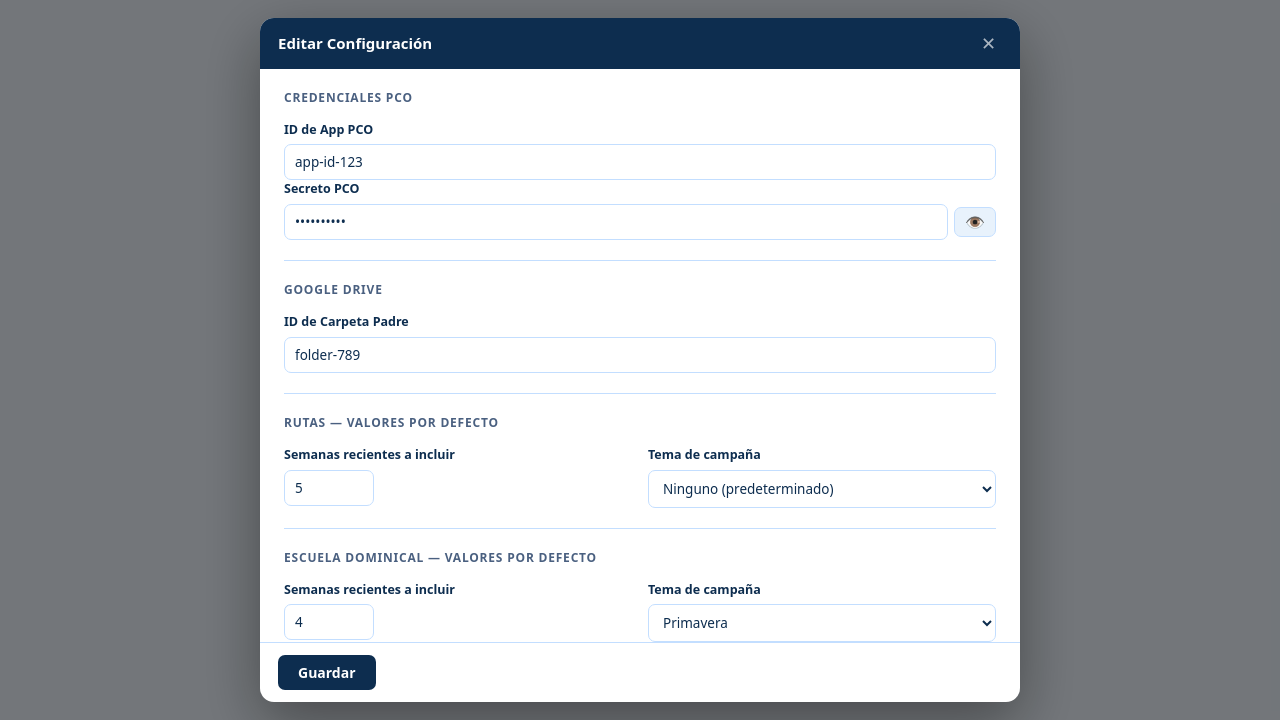
SettingsModal › shows "¡Guardado!" after a successful save
Expected: the field showing "app-id-123" below "ID de App PCO" is shown, x1=284 y1=144 x2=996 y2=180
Click the button "Guardar".
click(327, 672)  # box x1=278 y1=655 x2=376 y2=690
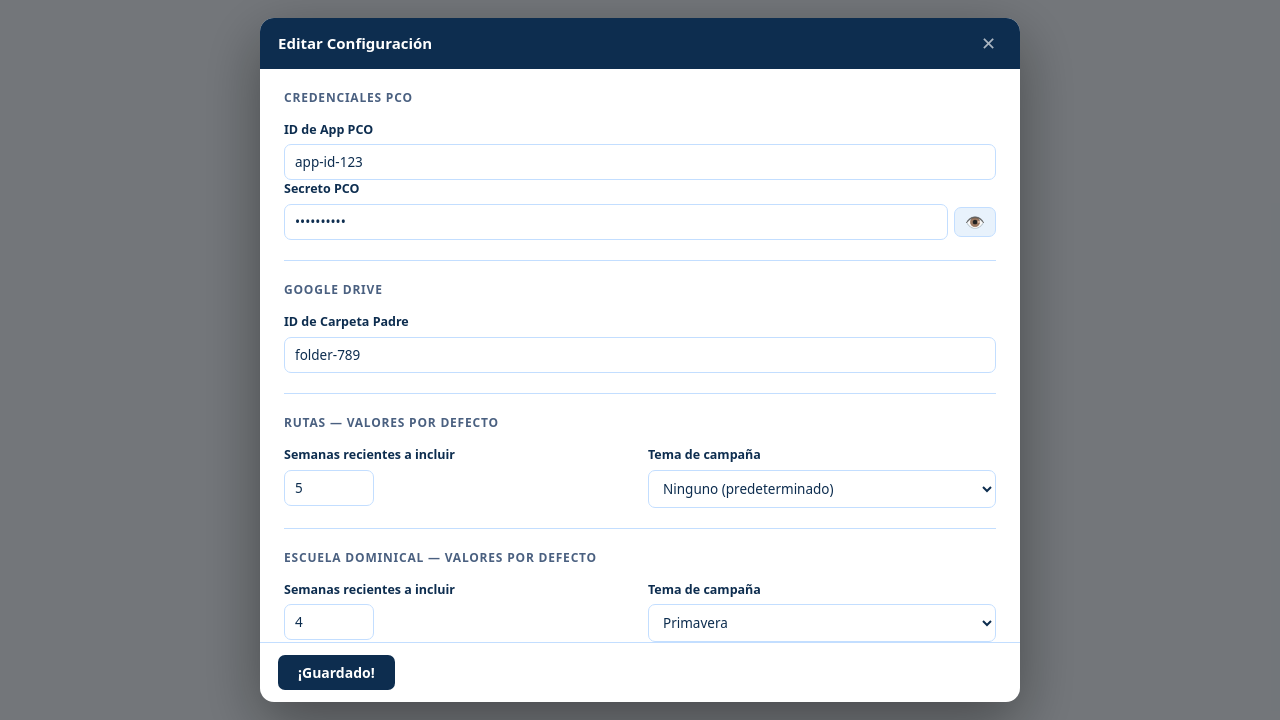
Result: the button "¡Guardado!" is shown at x1=278 y1=655 x2=395 y2=690
